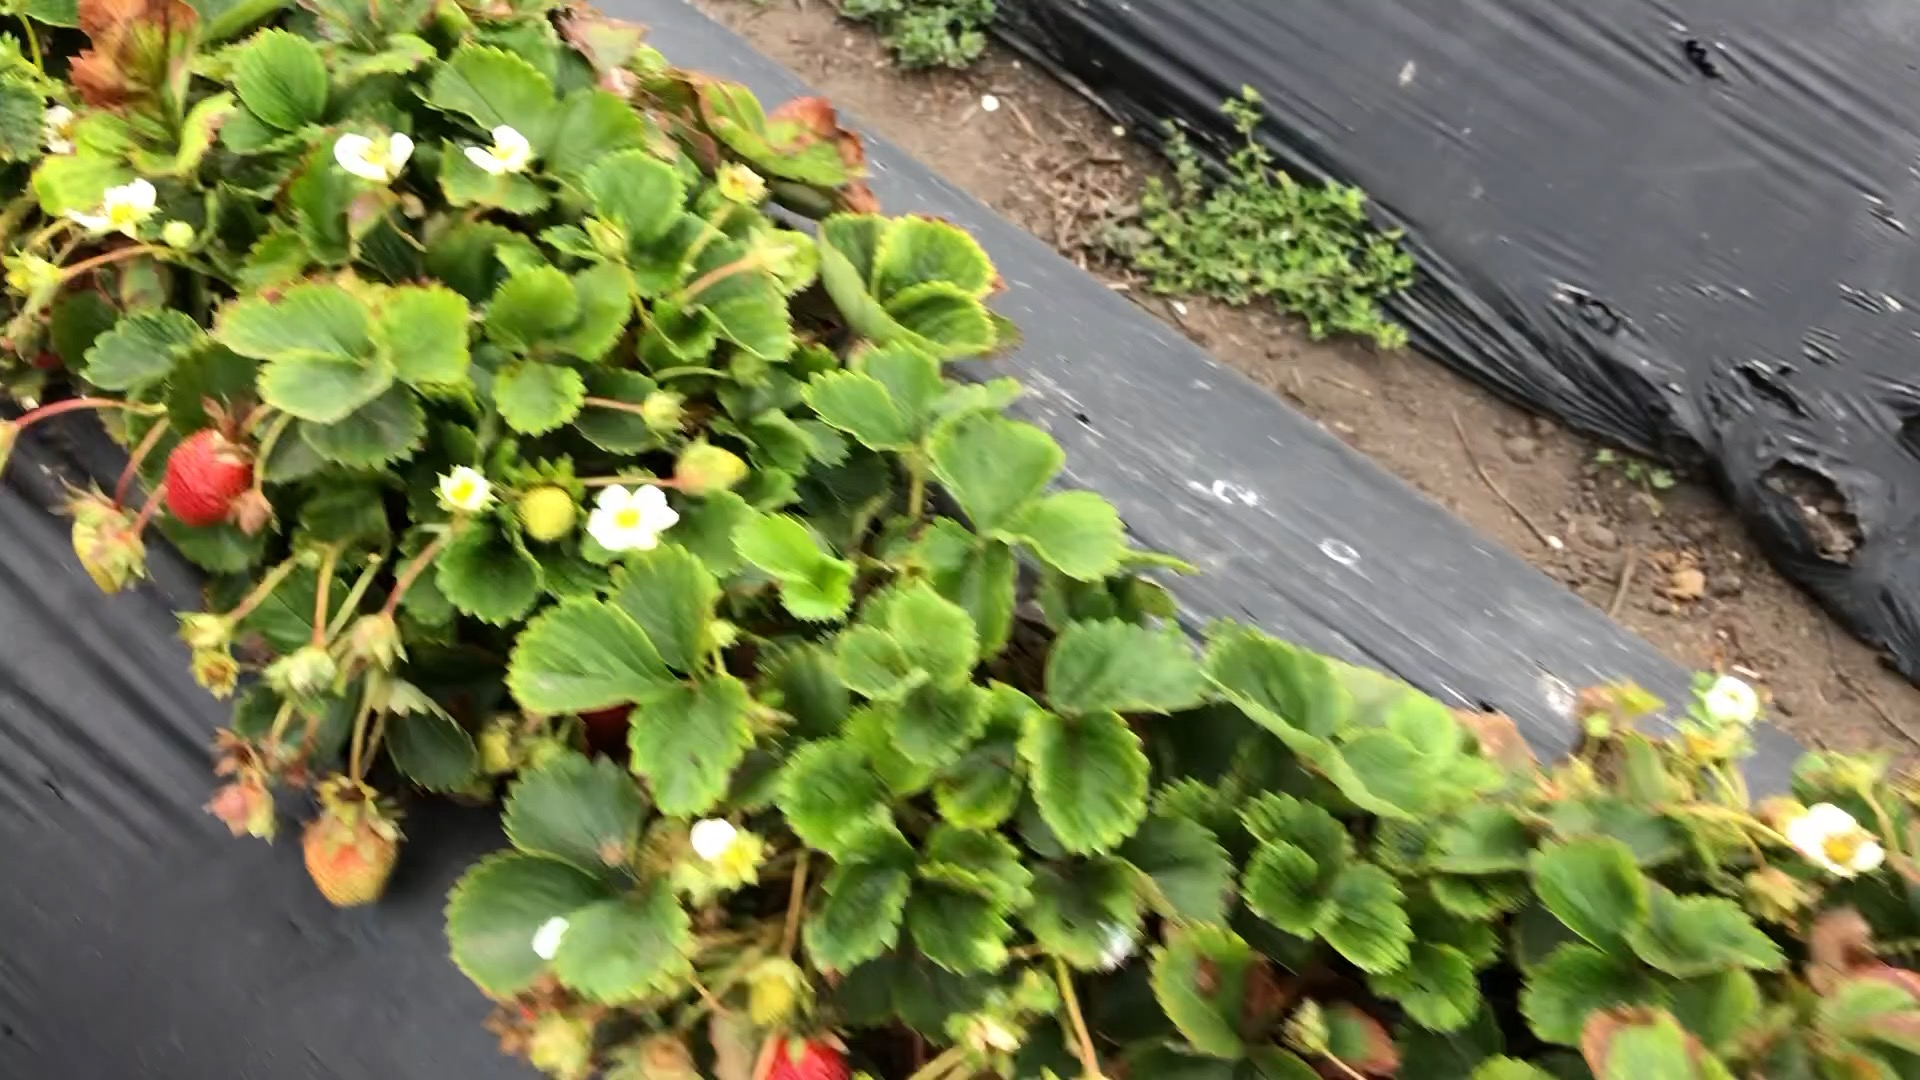ripe_strawberry: (161, 423, 256, 533), (676, 440, 753, 502), (765, 1033, 855, 1080)
unripe_strawberry: (298, 793, 402, 916), (67, 498, 133, 597), (745, 957, 803, 1033), (513, 484, 583, 546)
